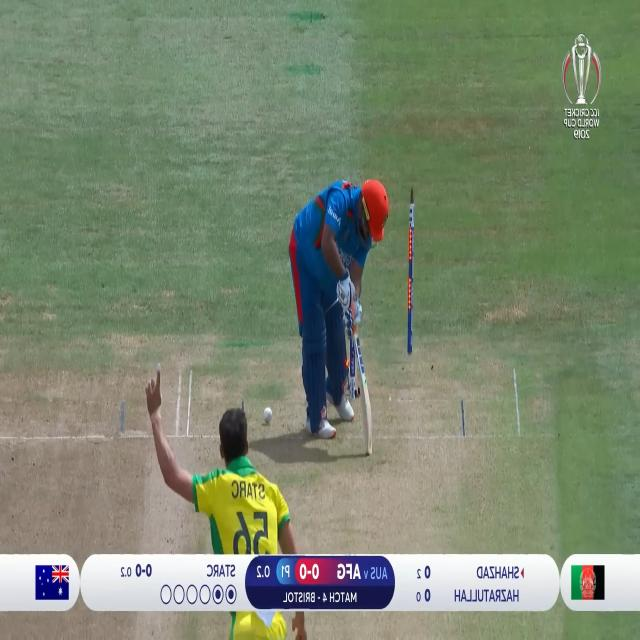ball: (261, 403, 276, 427)
